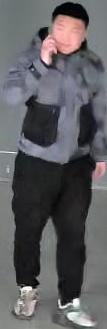phone: (5, 5, 82, 97)
